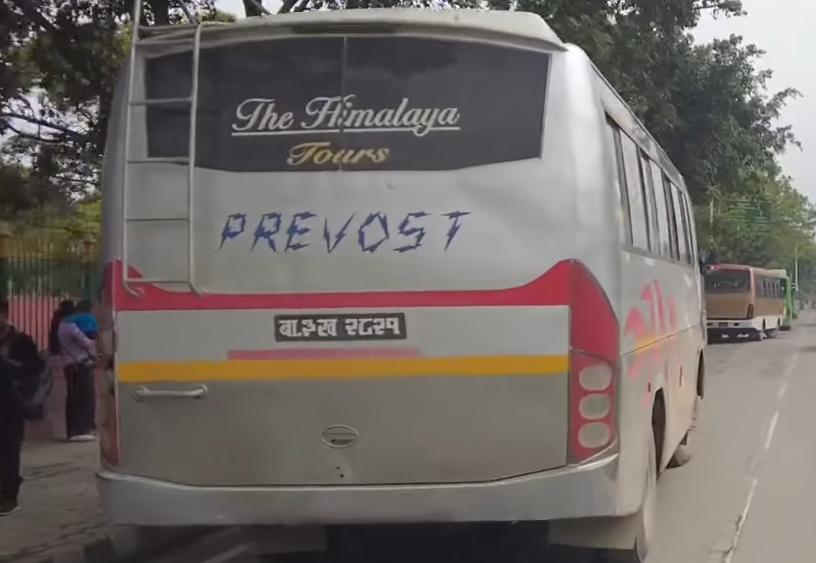bus: (92, 4, 715, 563), (701, 254, 794, 344)
